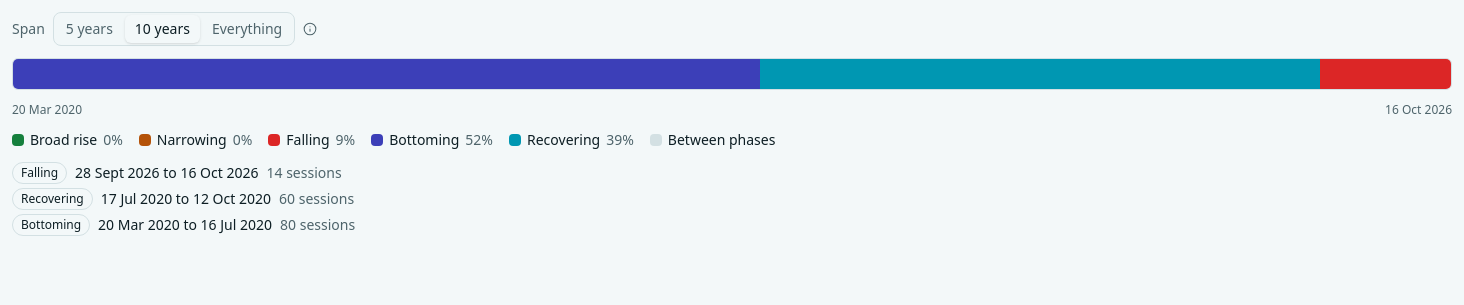
Scenario: PhaseHistory › shows everything when asked, a run between phases included
Click the button "Everything" at (247, 29), box [202,15,292,43]
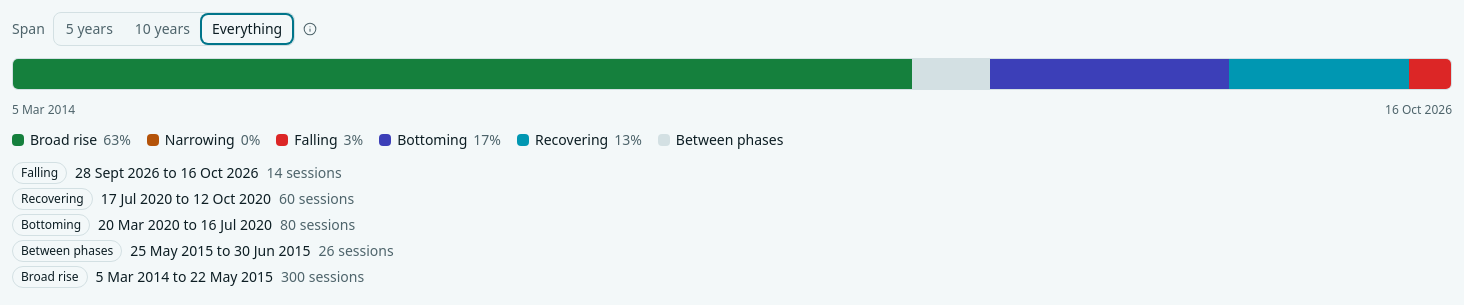
Expected: the number of elements with test id "phase-band" is 5, [13,59,912,89]; [912,59,990,89]; [990,59,1229,89]; [1229,59,1409,89]; [1409,59,1451,89]
Expected: the list named "The latest runs" shows "Between phases", [21,242,113,259]
